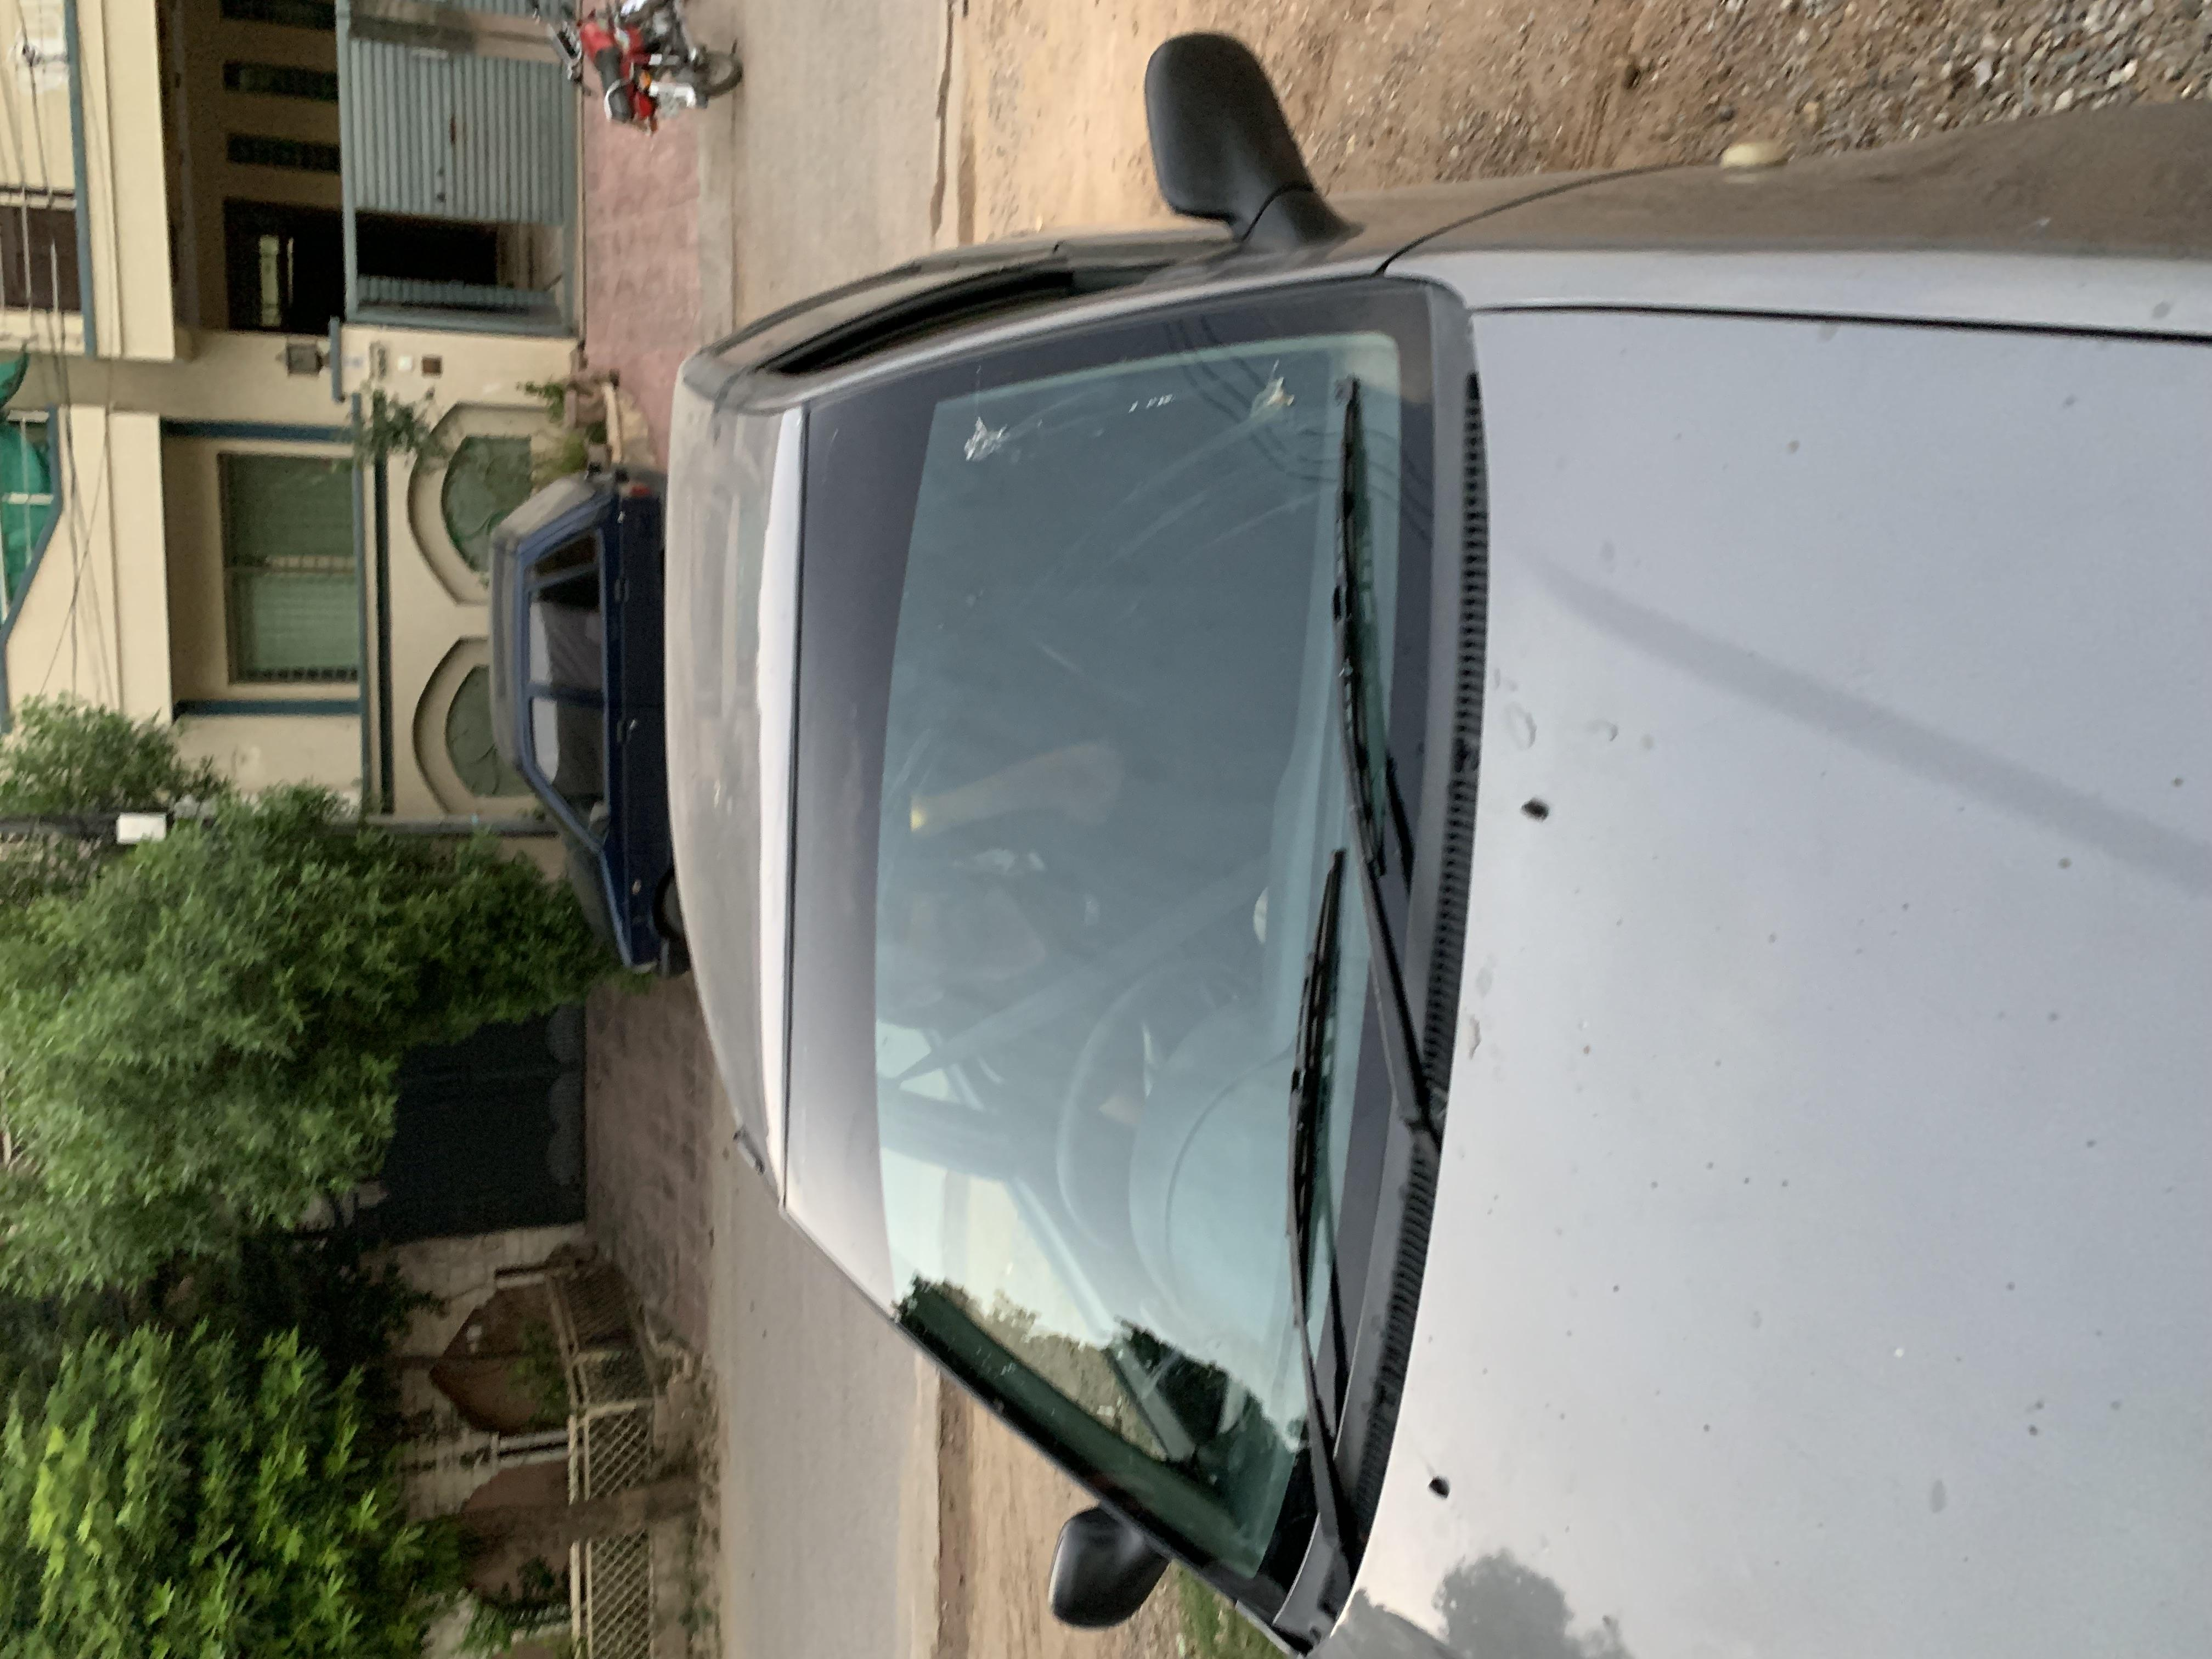windshield: (16, 584, 1801, 1103)
